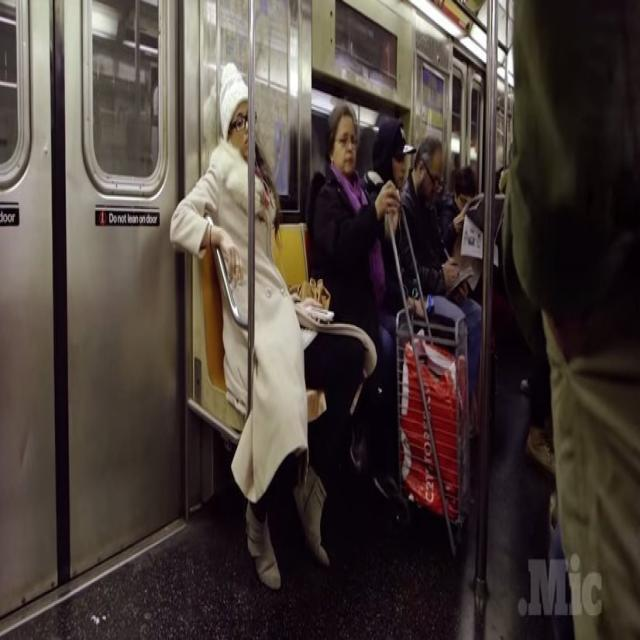body: (436, 0, 640, 640), (170, 61, 331, 589), (307, 98, 402, 504), (398, 132, 484, 438), (364, 116, 429, 319)
